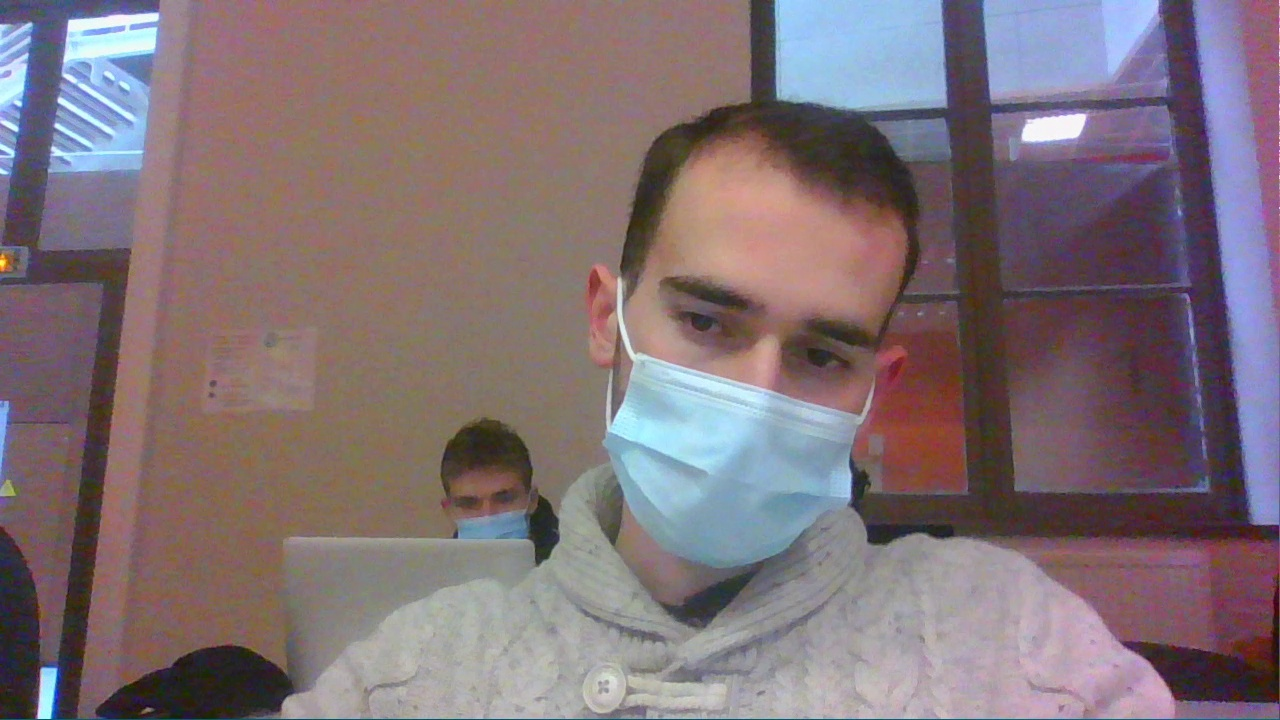mask: (584, 99, 914, 575), (438, 417, 534, 539)
